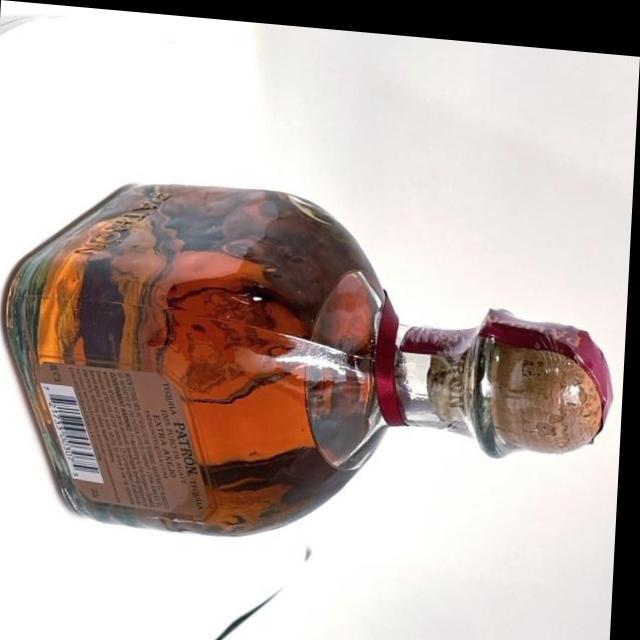Patron Extra Anejo Tequila- 750 mL Bottle- ABV 40-: (0, 165, 627, 558)
